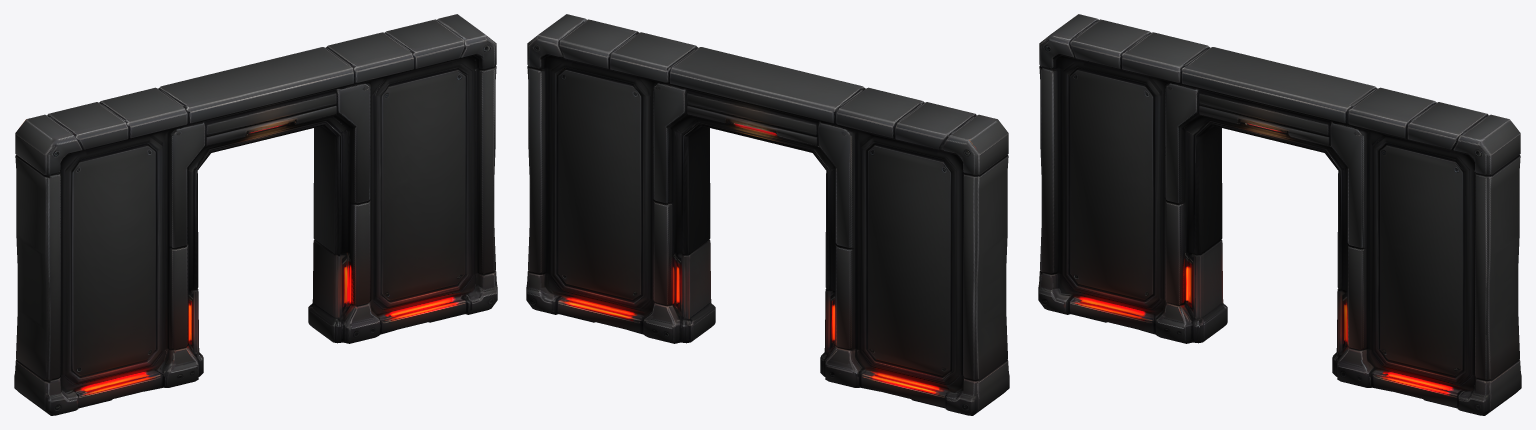
Rendered from VAL_Doorway_FINAL.glb.
3 renders of one model, left to right at view 1: azimuth 30°, elevation 25°; view 2: azimuth 150°, elevation 25°; view 3: azimuth 330°, elevation 25°, orthographic.
Parts seen in each view (by area): view 1: part_0000; view 2: part_0000; view 3: part_0000.
Part boxes in pixels (x1=…): part_0000: x1=14, y1=14, x2=497, y2=415; part_0000: x1=526, y1=14, x2=1009, y2=415; part_0000: x1=1038, y1=14, x2=1521, y2=415.
Bounding box in the file's own units: 8.65 × 5 × 1.23.
Materials: 1 (1 with a texture image).
